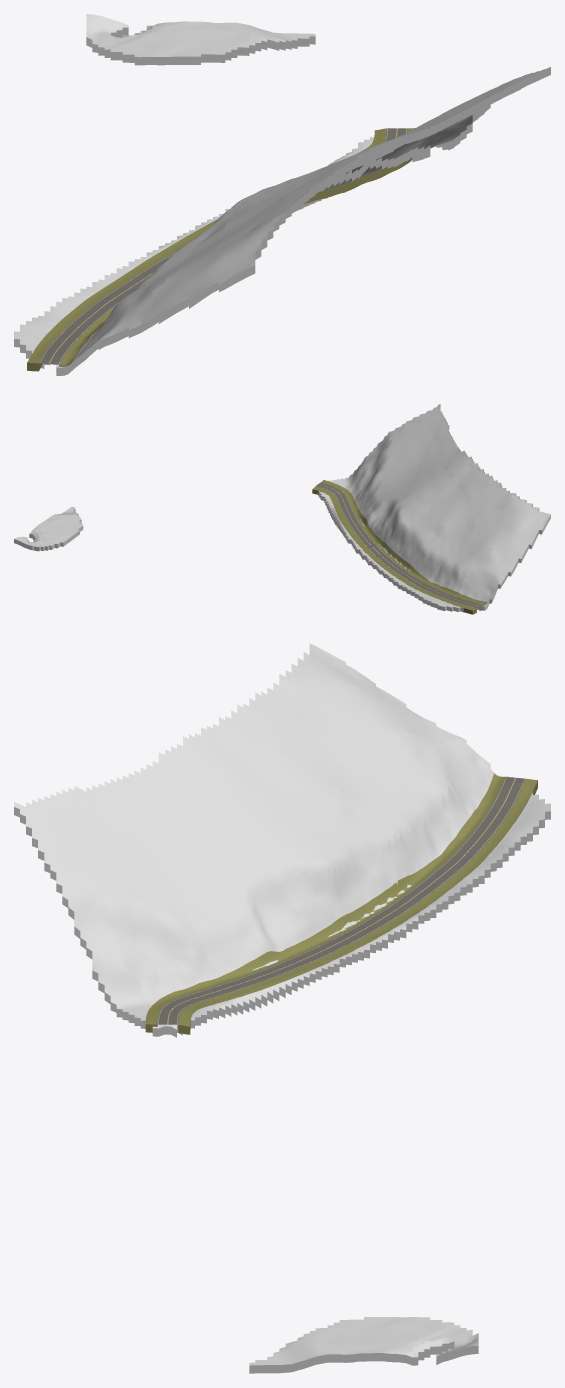
File: conz_123.glb
3 views of the same model, one above another, from view 1: azimuth 90°, elevation 25°; view 2: azimuth 150°, elevation 25°; view 3: azimuth 270°, elevation 25° (orthographic). The views are drawn at different scales.
Visible parts, largest first — view 1: terrain123, road123, verge123L, verge123R; view 2: terrain123, road123, verge123R, verge123L; view 3: terrain123, road123, verge123R, verge123L.
Part boxes in pixels (x1,y1,x2,y2): terrain123: (14, 14, 550, 375); road123: (39, 128, 407, 364); verge123L: (27, 128, 386, 371); verge123R: (59, 128, 415, 366); terrain123: (14, 404, 550, 612); road123: (316, 482, 483, 608); verge123R: (321, 480, 487, 607); verge123L: (312, 486, 476, 614); terrain123: (14, 643, 550, 1373); road123: (157, 777, 525, 1024); verge123R: (145, 773, 505, 1032); verge123L: (178, 778, 537, 1034).
Bounding box in the file's own units: 374 × 100 × 178.
